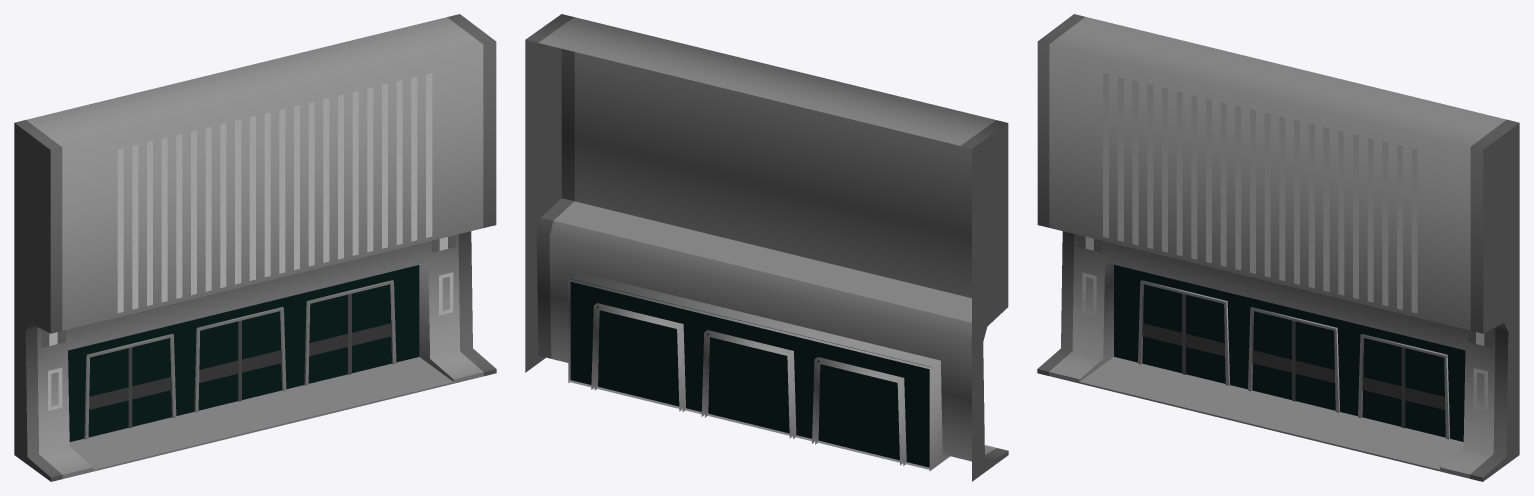
The model's file is Wall_Door_14x10x2_001_L3.fbx.
The picture shows the model from 3 angles, left to right: view 1: azimuth 30°, elevation 25°; view 2: azimuth 150°, elevation 25°; view 3: azimuth 330°, elevation 25°; orthographic projection.
Parts seen in each view (by area): view 1: Wall_Door_14x10x2_001_L3; view 2: Wall_Door_14x10x2_001_L3; view 3: Wall_Door_14x10x2_001_L3.
Part boxes in pixels (box(x1,y1,x2,y2)): Wall_Door_14x10x2_001_L3: box(14, 14, 496, 481); Wall_Door_14x10x2_001_L3: box(525, 14, 1008, 481); Wall_Door_14x10x2_001_L3: box(1037, 14, 1519, 481).
Bounding box in the file's own units: 14 × 9.98 × 2.08.
